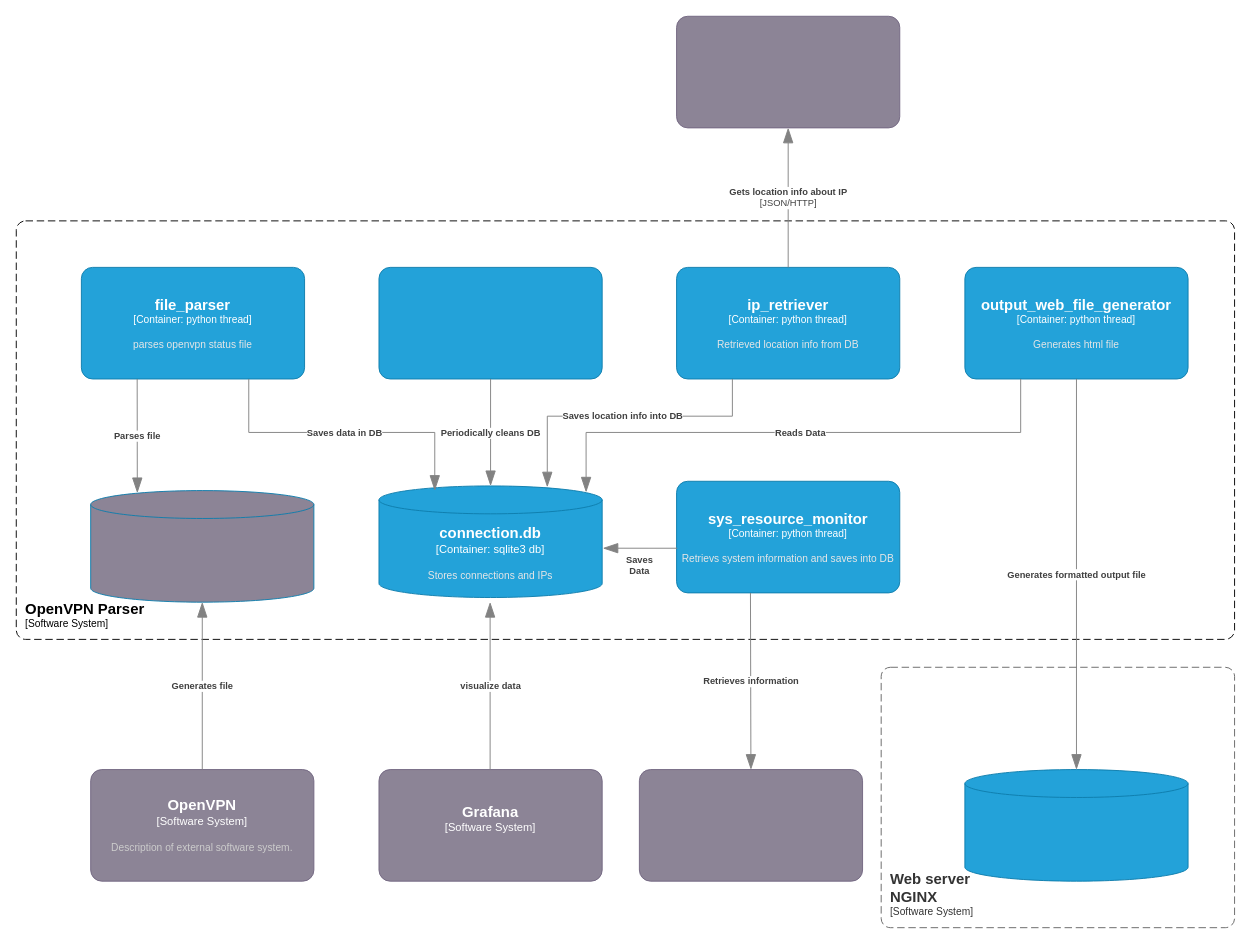
This 1251x944 diagram has some shape labels left out. Here are the shapes that lost their labels. From the top down, the centre of each, then its label:
At point (788, 71): "https://ipinfo.io [Software System] Service providing location info from IP".
At point (490, 322): "db_clean [Container: python thread] Periodically cleans db from old connections".
At point (202, 546): "status.log [Container: file] file generated by openVPN".
At point (750, 825): "OS [Software System] operating system".
At point (1076, 825): "vpn.html [Container: file] static formatted file".
